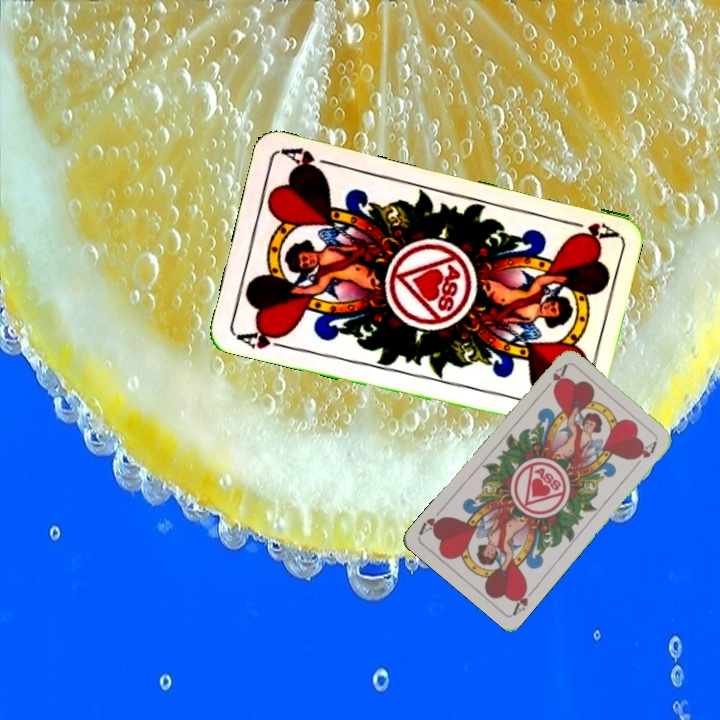HA: (233, 323, 292, 352), (560, 215, 618, 243), (509, 581, 539, 618), (539, 361, 570, 395)
